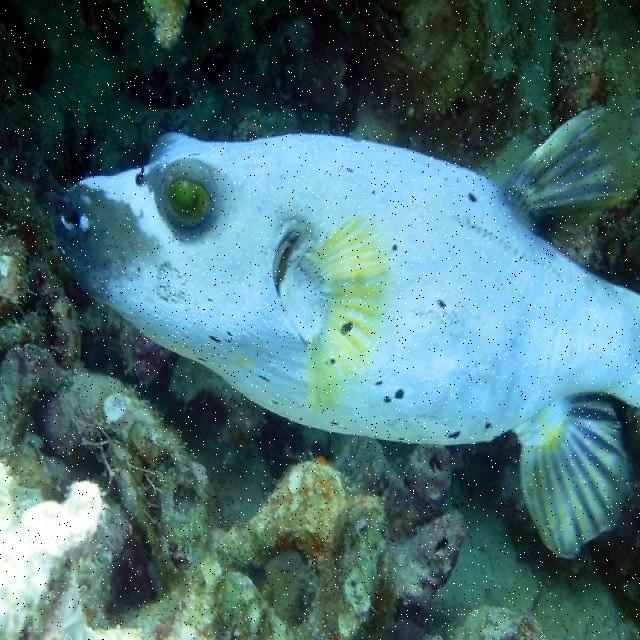fish: (55, 106, 639, 558)
